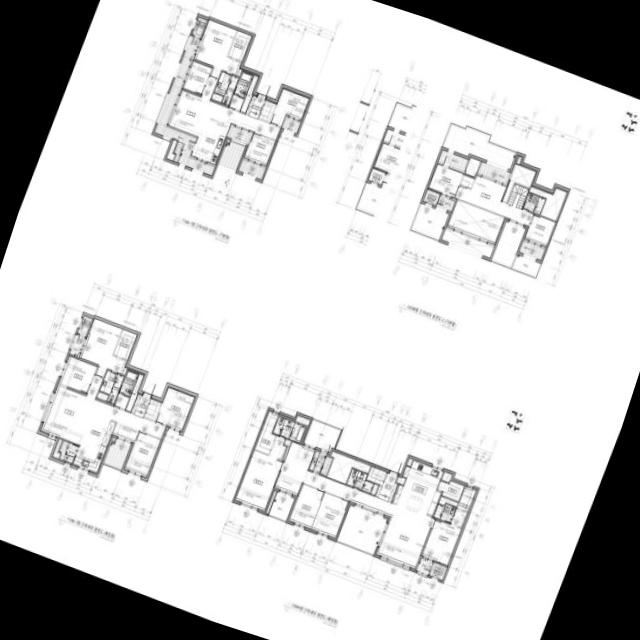background: (0, 0, 640, 640)
space_balconi: (154, 36, 214, 176), (443, 126, 516, 169), (337, 506, 387, 555), (412, 204, 449, 239), (304, 421, 340, 452), (218, 142, 245, 171), (104, 441, 130, 470), (269, 492, 295, 521), (478, 162, 510, 184), (438, 150, 469, 171), (309, 451, 333, 476), (513, 255, 540, 276), (238, 160, 265, 180), (519, 241, 545, 260), (59, 441, 78, 463), (228, 127, 250, 145), (69, 335, 85, 357), (436, 195, 455, 212), (283, 118, 300, 134), (416, 559, 432, 575)
space_bedroom: (236, 436, 287, 511), (194, 20, 241, 79), (80, 319, 127, 378), (422, 509, 467, 566), (156, 387, 195, 431), (311, 493, 349, 538), (125, 432, 161, 477), (289, 485, 324, 529), (270, 89, 310, 127), (59, 356, 97, 394), (429, 164, 463, 198), (244, 133, 276, 166), (525, 215, 555, 247), (183, 61, 211, 95)
space_dressroom: (255, 412, 278, 455), (228, 31, 252, 62), (113, 330, 137, 360), (457, 487, 476, 512)
space_front: (376, 473, 398, 502), (246, 96, 265, 120), (131, 395, 150, 418)
space_kitchen: (393, 461, 443, 517), (73, 414, 116, 473), (191, 116, 230, 165)
space_living_room: (275, 442, 434, 569), (41, 376, 166, 445), (167, 76, 281, 141), (455, 176, 533, 226)
space_other: (447, 200, 505, 244), (441, 229, 494, 258), (492, 222, 526, 267), (327, 452, 371, 484), (529, 187, 567, 221), (503, 165, 536, 202), (240, 76, 259, 113), (126, 375, 144, 412), (507, 183, 529, 210), (112, 422, 138, 443), (438, 481, 464, 502), (367, 467, 387, 486), (259, 100, 276, 122), (144, 400, 161, 421), (465, 158, 481, 177), (229, 95, 244, 111), (114, 394, 129, 410), (166, 140, 177, 161), (266, 491, 276, 514), (52, 439, 62, 460), (460, 175, 474, 189), (439, 497, 458, 507), (283, 440, 291, 460), (296, 416, 310, 426), (211, 93, 223, 103), (442, 473, 452, 483), (396, 477, 406, 485), (371, 484, 378, 495), (237, 68, 242, 77), (407, 459, 413, 466), (517, 157, 522, 164), (123, 367, 127, 375), (112, 438, 115, 442), (227, 140, 230, 143)
space_outdoor_room: (77, 316, 93, 337), (429, 563, 447, 581), (192, 17, 207, 38), (423, 190, 440, 206)
space_toilet: (97, 371, 124, 404), (273, 417, 306, 443), (214, 72, 238, 105), (347, 469, 373, 493), (234, 72, 253, 98), (119, 370, 138, 396), (523, 194, 545, 215), (434, 504, 456, 523)
